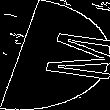M_W: (6, 27, 104, 83)
